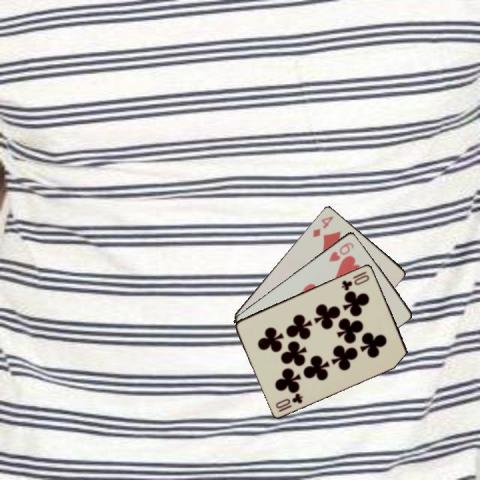10c: (338, 268, 370, 292), (273, 390, 304, 413)
4d: (309, 212, 335, 238)
6h: (326, 238, 355, 262)
